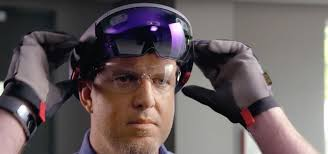hololens: (67, 2, 198, 81)
